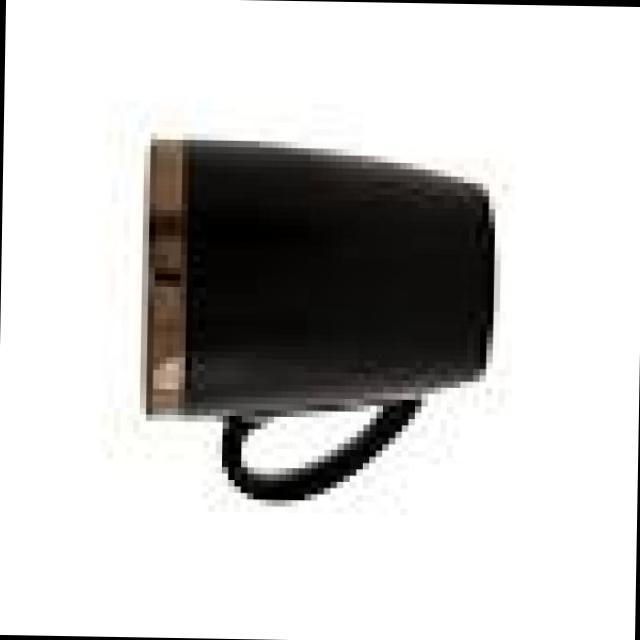Coffee Mug: (139, 135, 495, 510)
